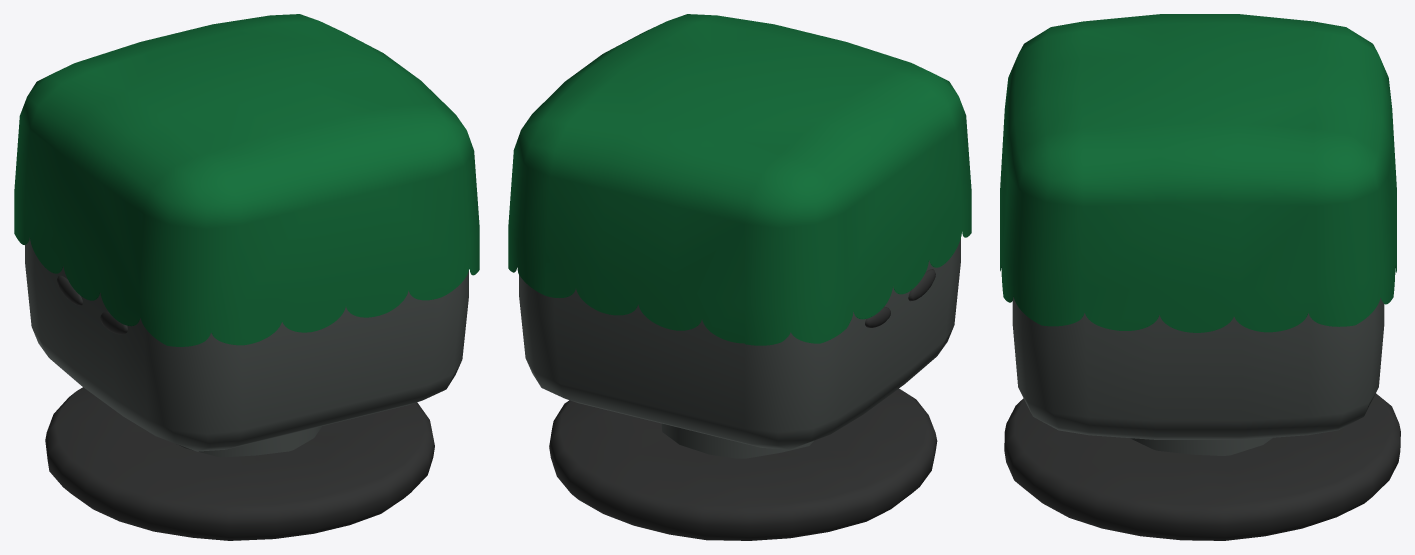
The model's file is TreeCaveDied.fbx.
3 views of the same model, side by side, from view 1: azimuth 30°, elevation 25°; view 2: azimuth 150°, elevation 25°; view 3: azimuth 270°, elevation 25° (orthographic). The views are drawn at different scales.
Parts seen in each view (by area): view 1: TreeCaveDied2, TreeCaveDied1; view 2: TreeCaveDied2, TreeCaveDied1; view 3: TreeCaveDied2, TreeCaveDied1.
Part boxes in pixels (<box>): TreeCaveDied2: <box>14,14,479,346</box>; TreeCaveDied1: <box>25,238,468,540</box>; TreeCaveDied2: <box>508,14,971,345</box>; TreeCaveDied1: <box>519,238,960,540</box>; TreeCaveDied2: <box>1000,14,1396,332</box>; TreeCaveDied1: <box>1004,297,1400,540</box>.
Size of the model in its own units: 7.29 by 7.86 by 7.25.
